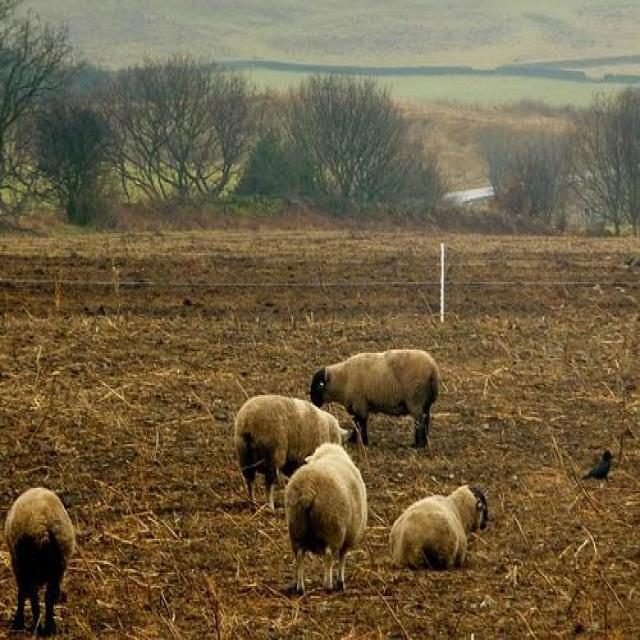Sheep: (229, 393, 352, 510), (284, 444, 368, 596), (311, 350, 437, 448), (1, 488, 81, 633), (389, 484, 489, 570)
